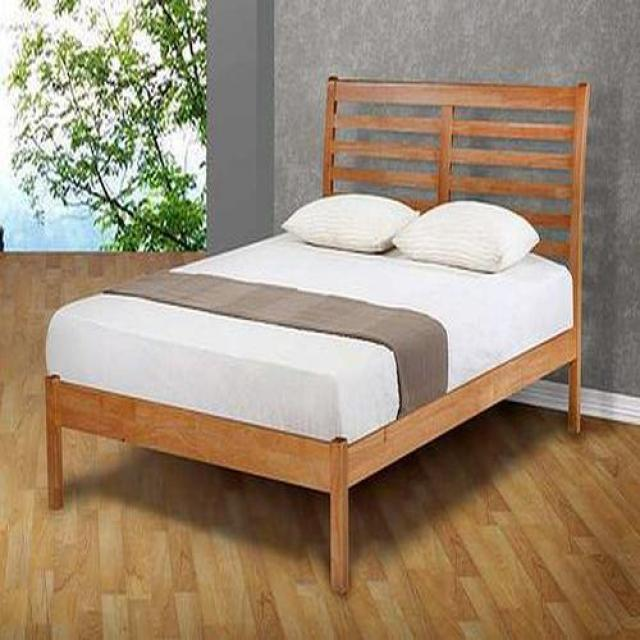bed: (45, 78, 590, 596)
